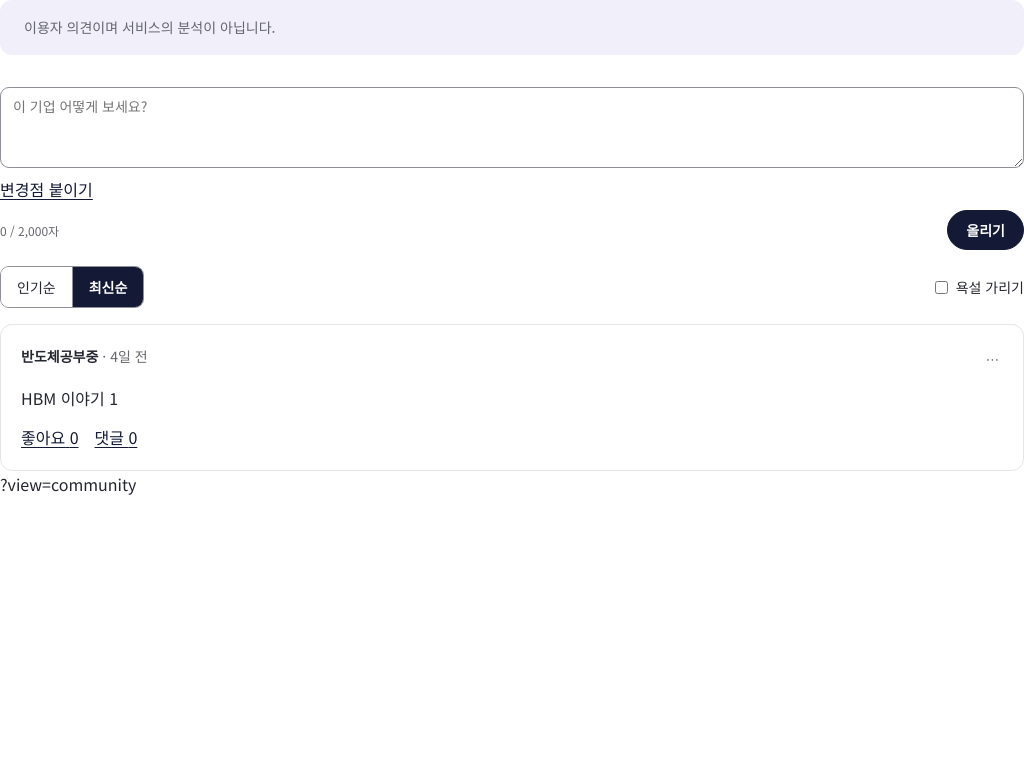
Test: 글에 붙인 변경점(#464) › 이 기업의 분석이 없으면 붙일 수 없다고 안내한다
Check: the text "HBM 이야기 1" is shown, box [21,386,118,410]
Click the button "변경점 붙이기".
click(46, 189)  # box [0,176,93,202]
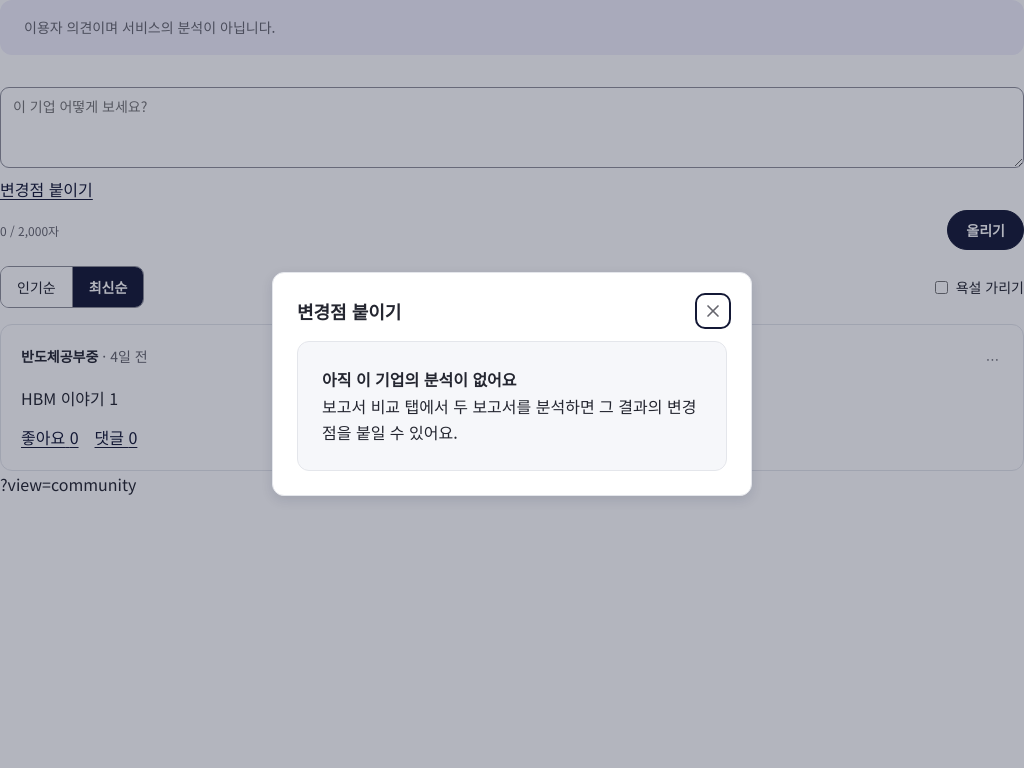
Check: the text "아직 이 기업의 분석이 없어요" is shown, box [322,367,517,391]
